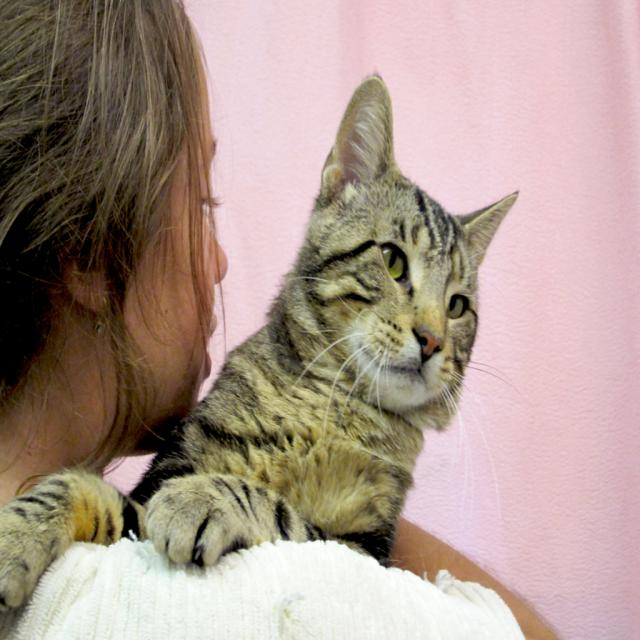Cat: (0, 68, 518, 612)
